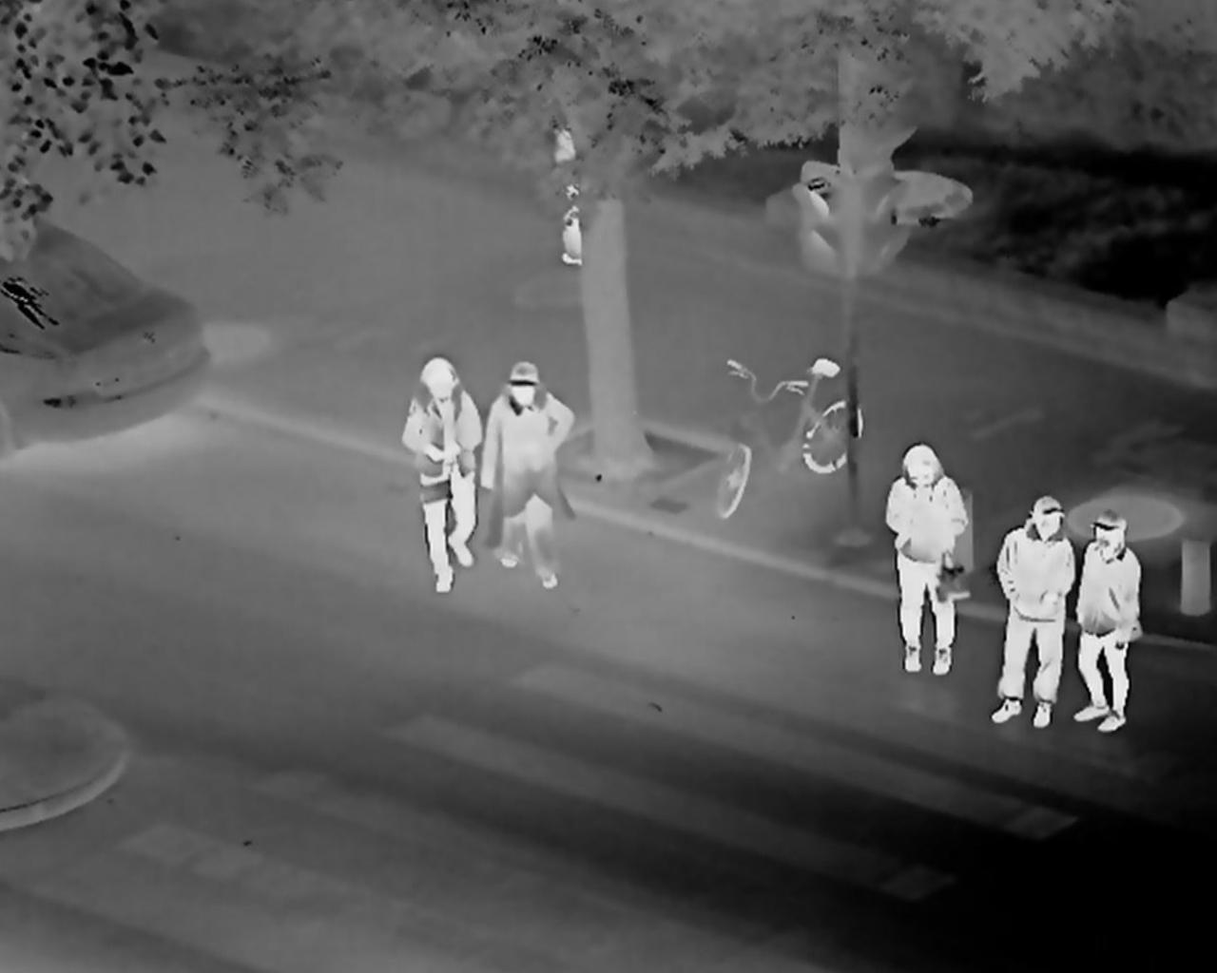person: (397, 354, 483, 588), (480, 359, 565, 592), (885, 440, 966, 678), (997, 495, 1077, 724), (1072, 510, 1141, 732), (549, 83, 602, 270)
